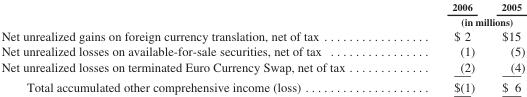table: (0, 0, 524, 93)
table column: (0, 0, 398, 93), (398, 0, 487, 93), (487, 0, 524, 93)
table column header: (0, 0, 524, 28)
table row: (0, 58, 524, 76), (0, 76, 524, 93), (0, 13, 524, 28), (0, 28, 524, 43), (0, 43, 524, 58), (0, 0, 524, 13)
table spanning cell: (398, 13, 524, 28)
